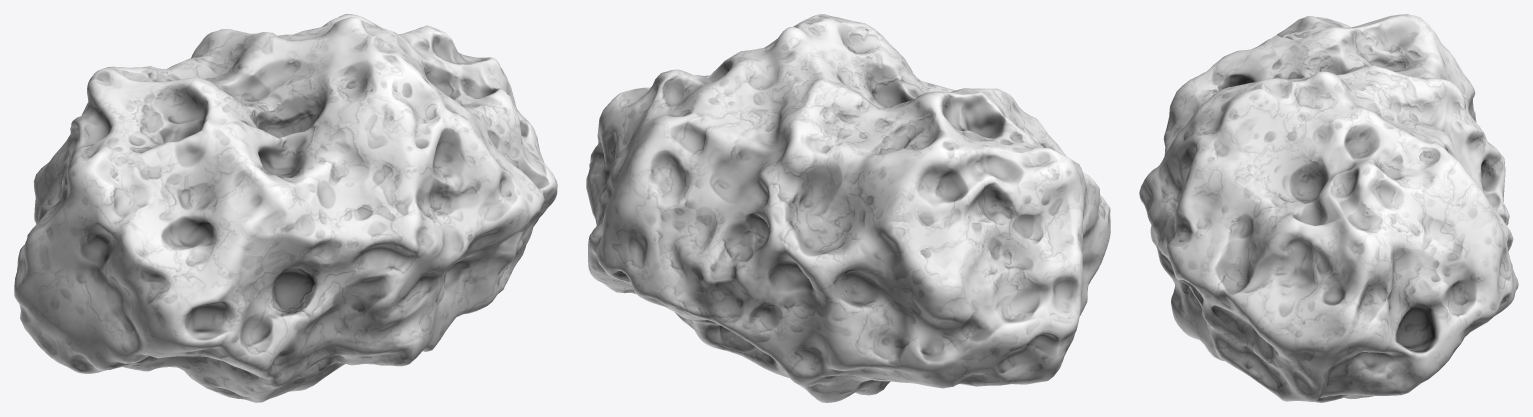
Rendered from Asteroid_1a.glb.
3 renders of one model, left to right at view 1: azimuth 30°, elevation 25°; view 2: azimuth 150°, elevation 25°; view 3: azimuth 270°, elevation 25°, orthographic. The views are drawn at different scales.
Parts seen in each view (by area): view 1: Asteroid_1a; view 2: Asteroid_1a; view 3: Asteroid_1a.
Part boxes in pixels (left/top/right/bottom): Asteroid_1a: left=14, top=14, right=557, bottom=402; Asteroid_1a: left=586, top=14, right=1110, bottom=402; Asteroid_1a: left=1139, top=14, right=1518, bottom=402.
Size of the model in its own units: 3.7 by 2.43 by 2.53.
Materials: 1 (1 with a texture image).
